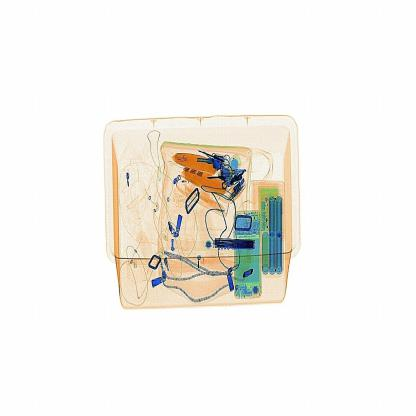scissors: (212, 234, 258, 254)
